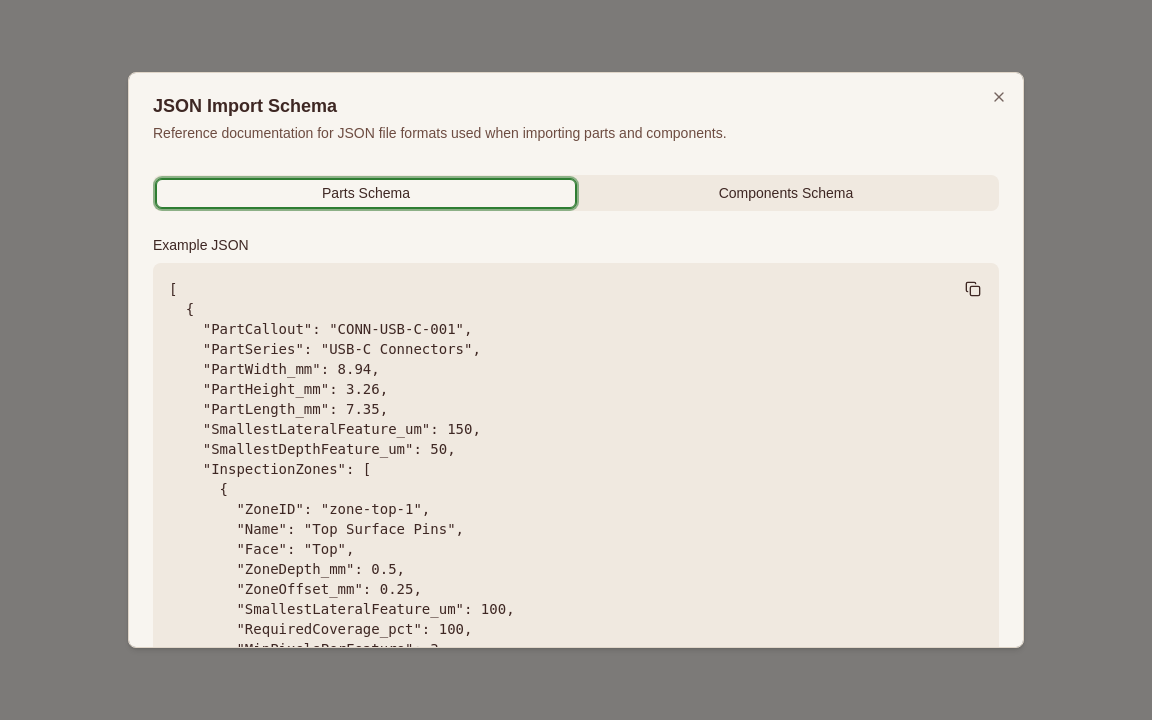
SchemaHelpModal › Components Schema tab (AC-2.9.3) › shows all 5 component types
Click the tab "Components Schema".
click(786, 193)  # box [576,178,996,208]
(page scrolled)
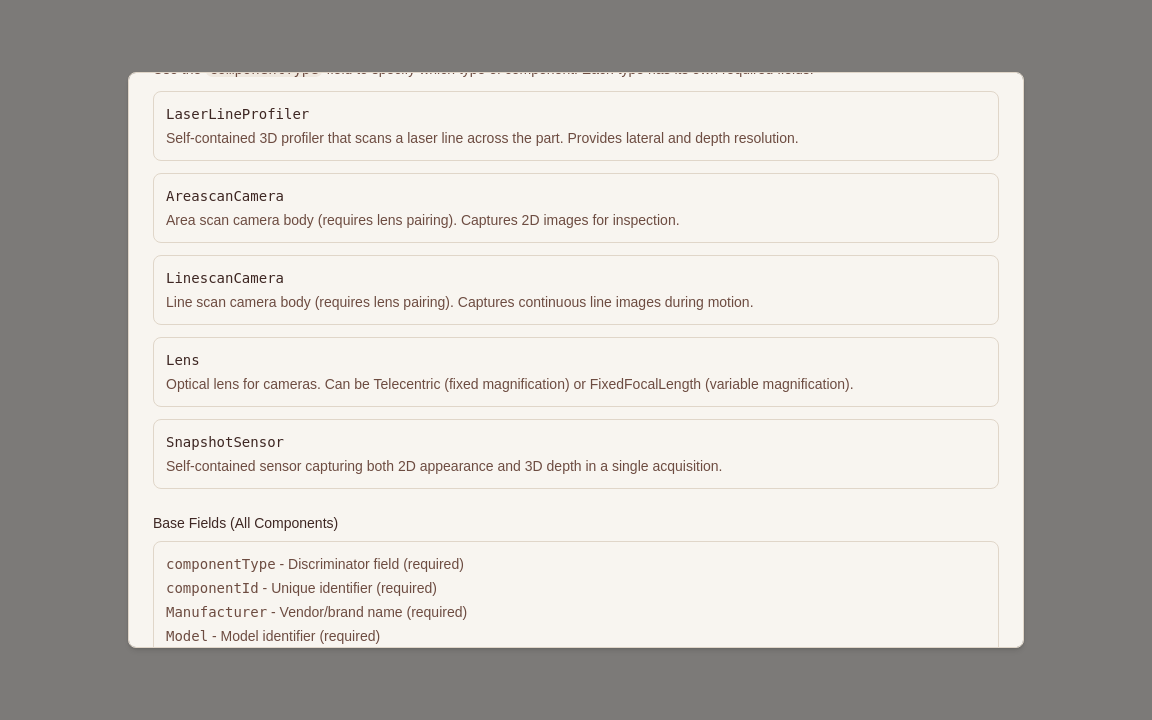
Check: the text "LaserLineProfiler" is shown, box [166,106,309,122]
Check: the text "AreascanCamera" is shown, box [166,188,284,204]
Check: the text "LinescanCamera" is shown, box [166,270,284,286]
